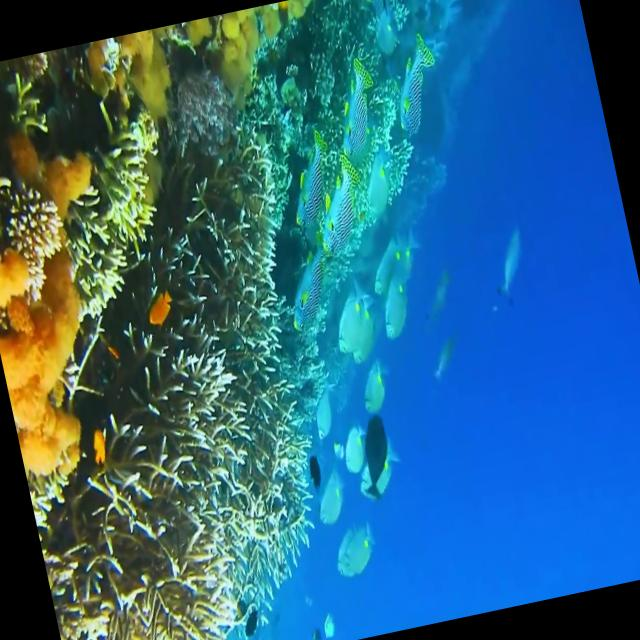fish: (319, 275, 390, 382), (367, 254, 435, 344), (476, 218, 540, 312), (318, 514, 388, 592), (348, 412, 404, 508), (352, 349, 402, 426), (308, 466, 360, 534), (83, 412, 128, 481), (305, 383, 349, 450), (140, 288, 188, 340), (336, 415, 374, 477), (299, 446, 330, 494)
